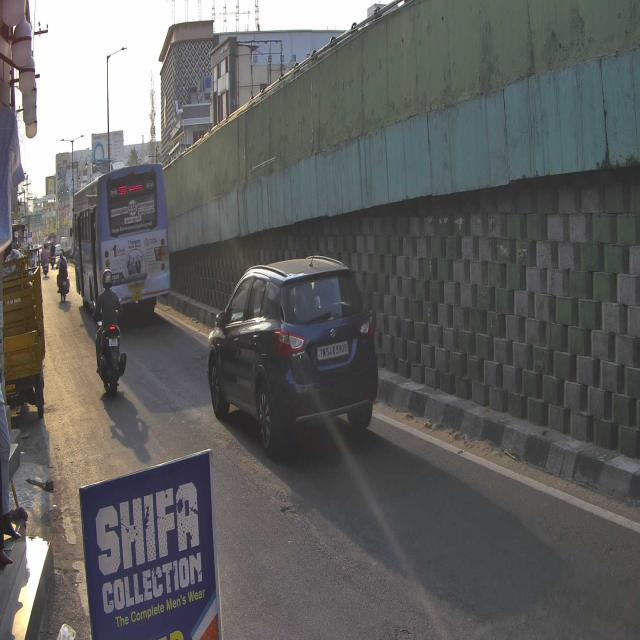single_rider: (89, 268, 127, 396)
